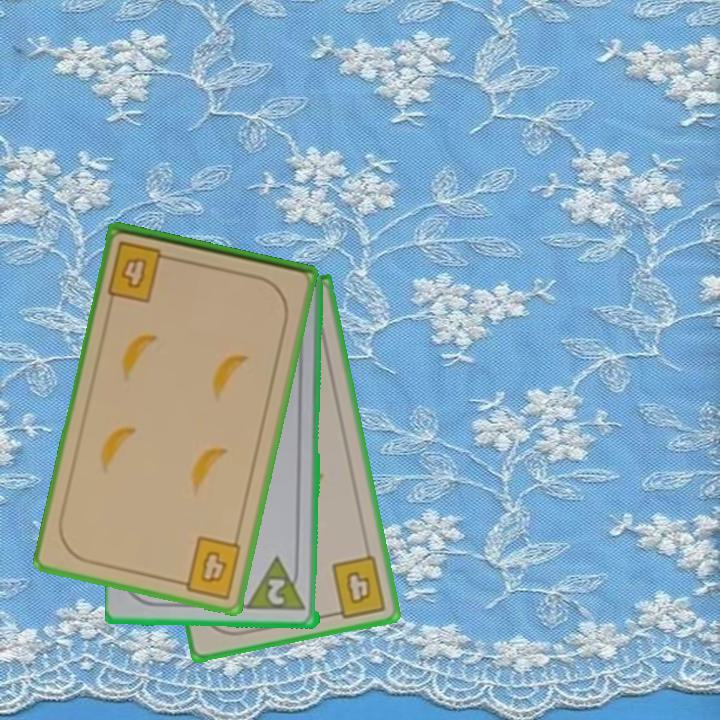2p: (264, 575, 290, 608)
4b: (103, 237, 177, 305), (172, 533, 244, 602), (326, 552, 390, 621)
